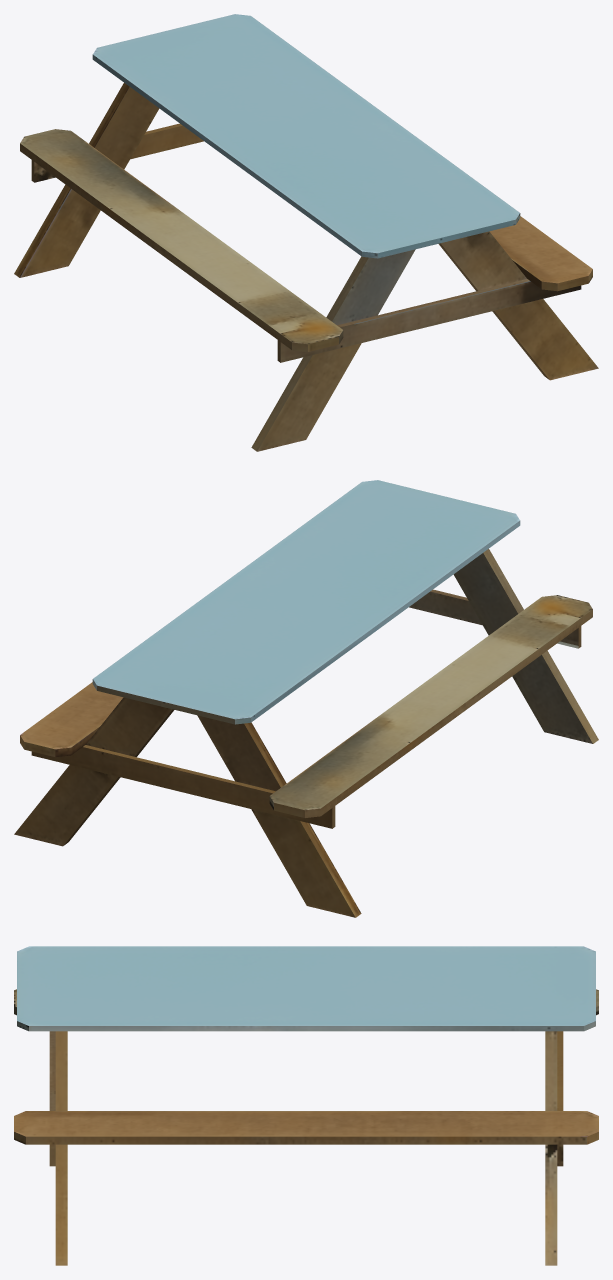
3 renders of one model, top to bottom at view 1: azimuth 30°, elevation 25°; view 2: azimuth 150°, elevation 25°; view 3: azimuth 270°, elevation 25°, orthographic. The views are drawn at different scales.
Parts seen in each view (by area): view 1: Node; view 2: Node; view 3: Node.
Part boxes in pixels (bbox=[...]): Node: bbox=[14, 14, 598, 451]; Node: bbox=[14, 480, 598, 917]; Node: bbox=[14, 946, 598, 1265].
Size of the model in its own units: 0.4869 by 0.2552 by 0.7.
1 material, 1 textured.
